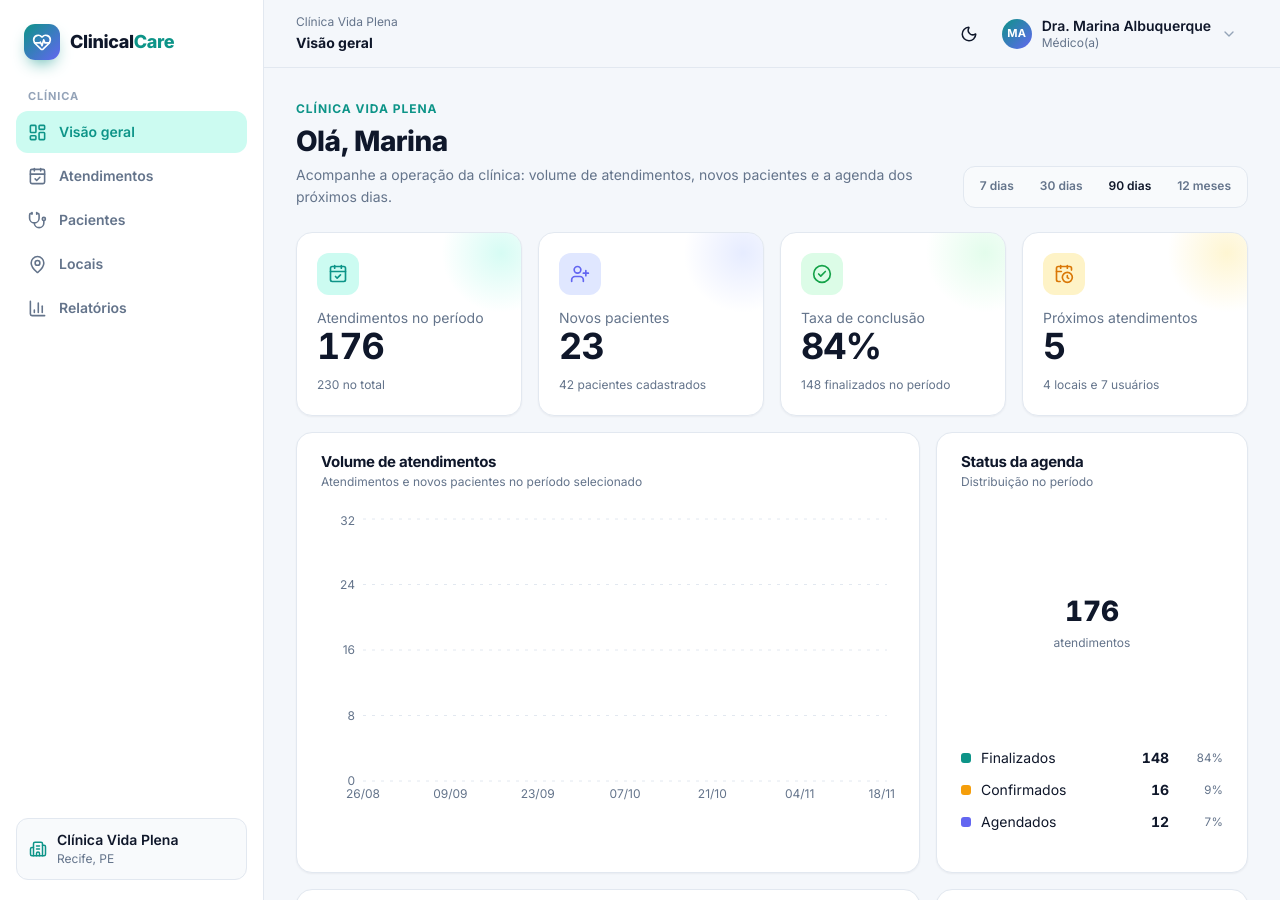
Test: dashboard › troca o período e atualiza os indicadores
Expected: the text "176" is shown, x1=317 y1=324 x2=384 y2=368
Click the button "12 meses" at (1204, 187), box x1=1165 y1=171 x2=1243 y2=203
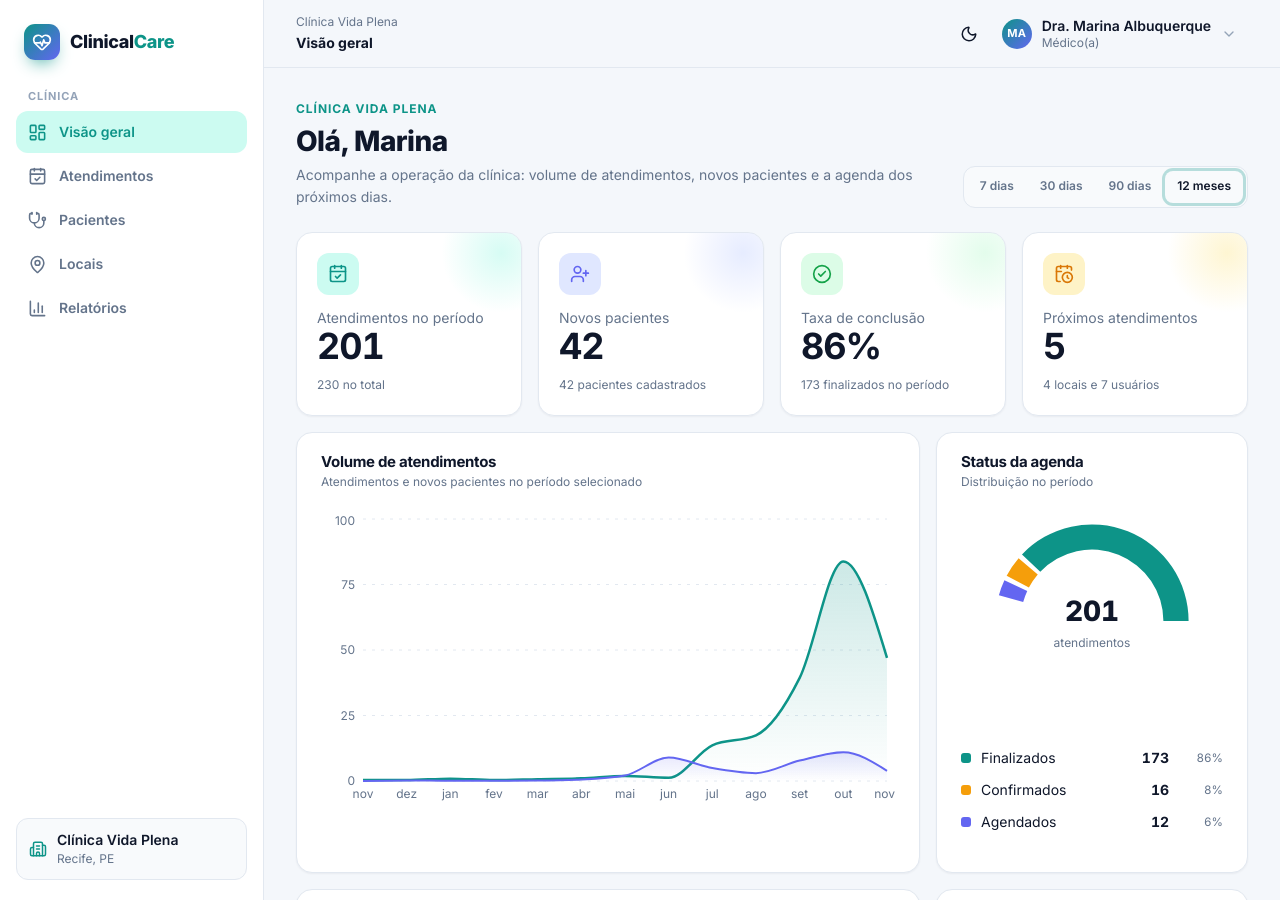
Now the button "12 meses" is pressed, box x1=1165 y1=171 x2=1243 y2=203
